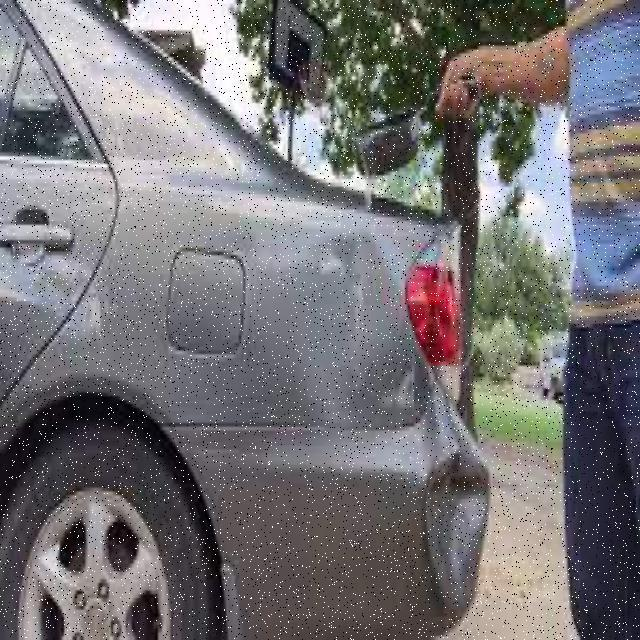doorouter-dent: (0, 152, 118, 484)
quaterpanel-dent: (120, 191, 403, 548)
rear-bumper-dent: (394, 228, 498, 636)
